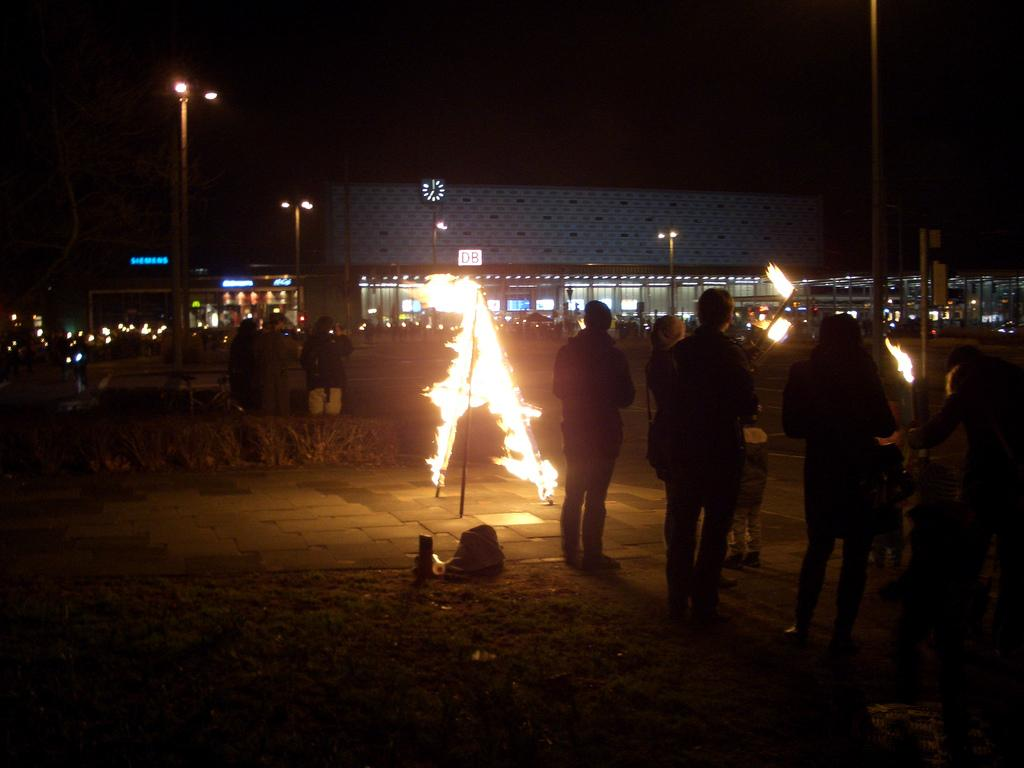fire: (432, 276, 524, 442), (764, 258, 800, 306), (888, 340, 920, 384), (766, 320, 804, 346)
